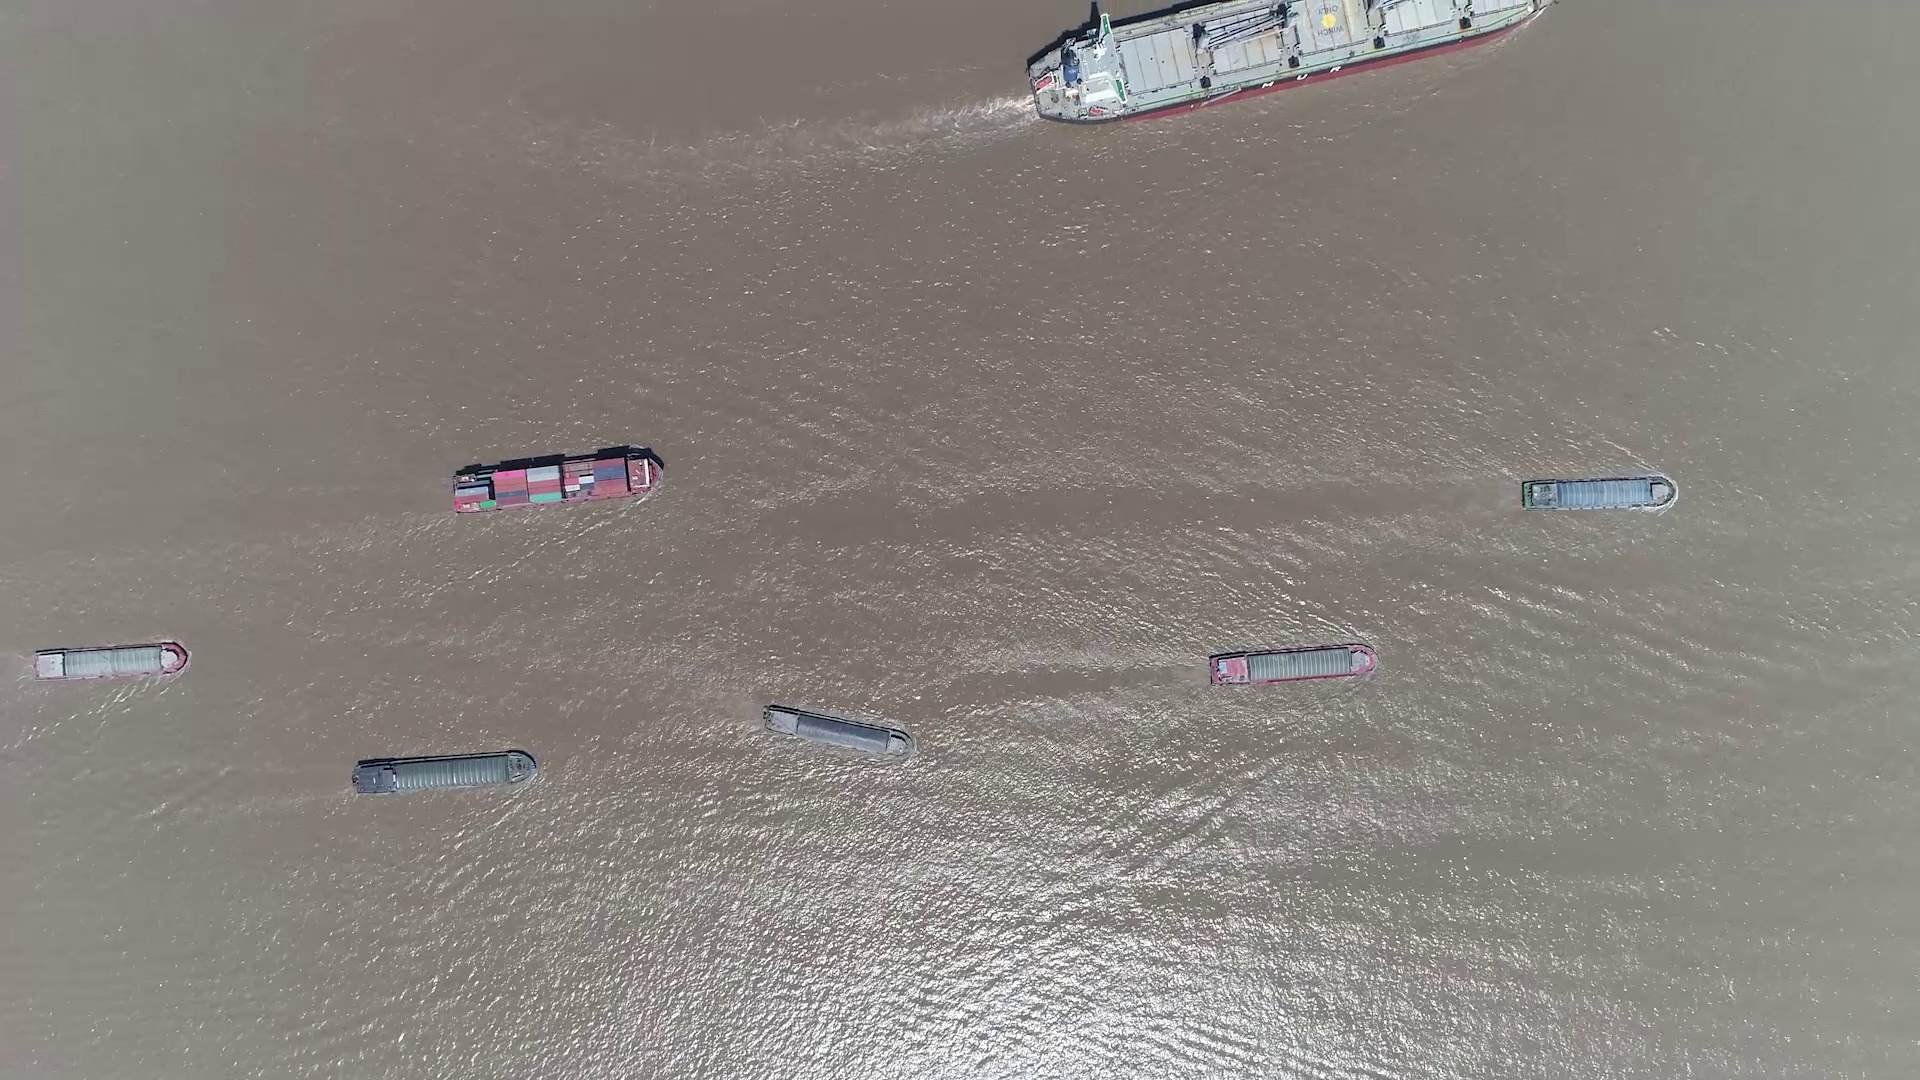ship: (1026, 3, 1545, 119), (452, 450, 663, 512), (353, 750, 539, 795), (761, 703, 911, 758), (1211, 645, 1378, 686), (30, 642, 187, 682), (1519, 475, 1673, 512)
